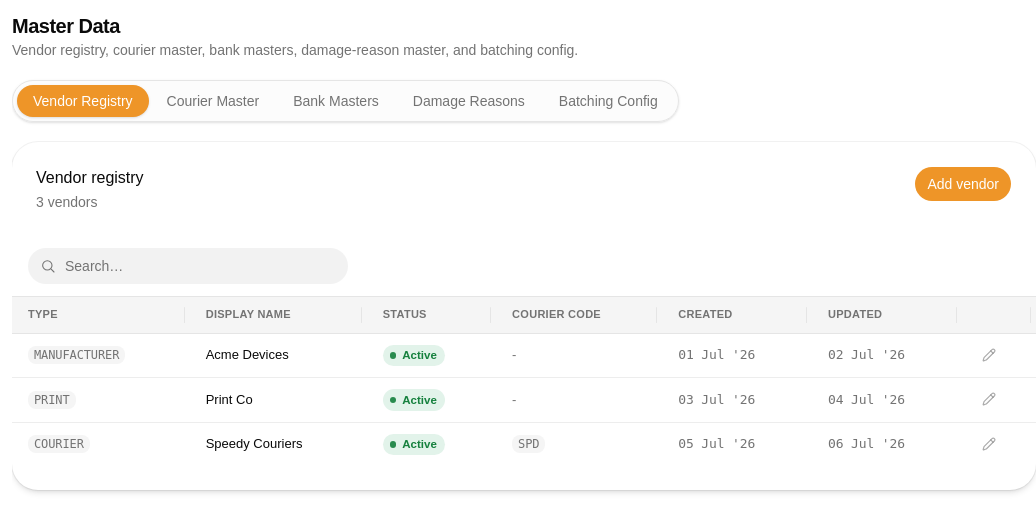
Test: master data views › Damage Reasons tab renders rows and distinguishes active/inactive without a fabricated status
Click the button "Damage Reasons". click: (469, 101)
box: [397,85,541,117]
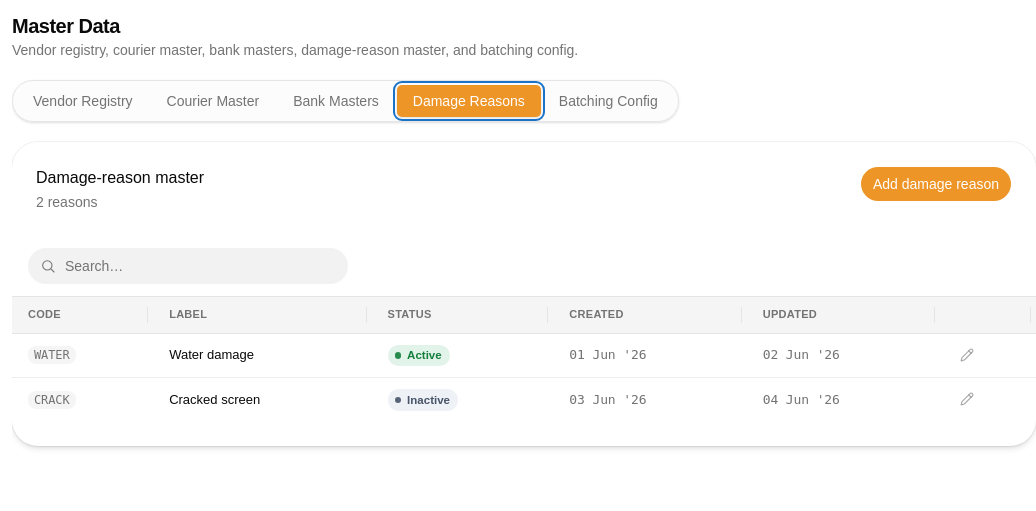
Result: the text "Water damage" is shown at [169,347,254,362]
Result: the text "WATER" is shown at [28,346,76,364]
Result: the text "Cracked screen" is shown at [169,392,260,407]
